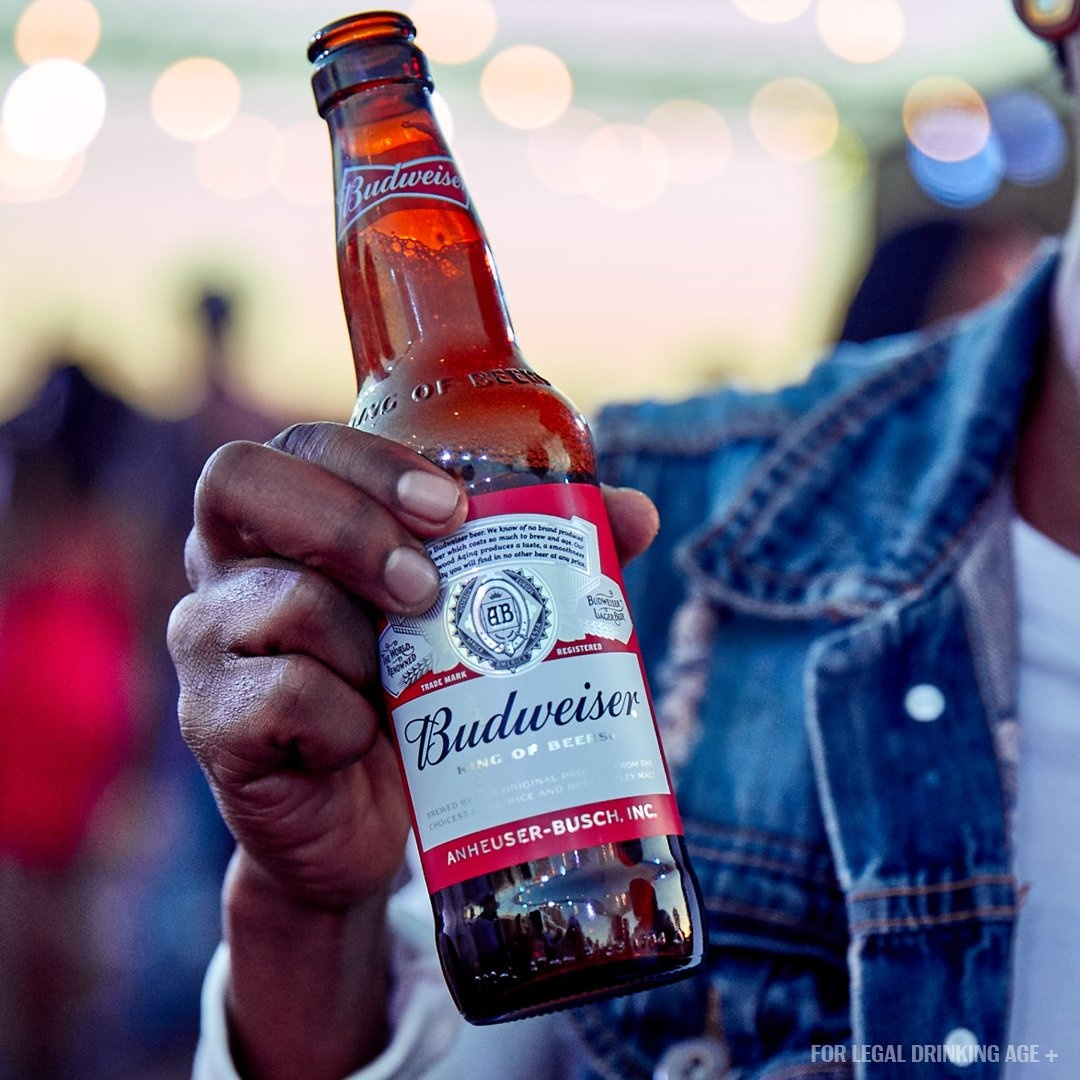beerBottle: (304, 14, 711, 1011)
